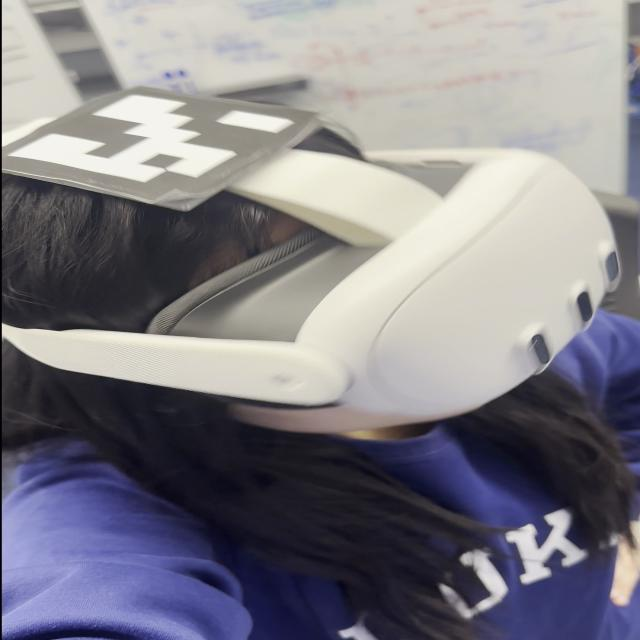Aruco Marker: (3, 84, 323, 212)
VR Headset: (2, 112, 623, 434)
